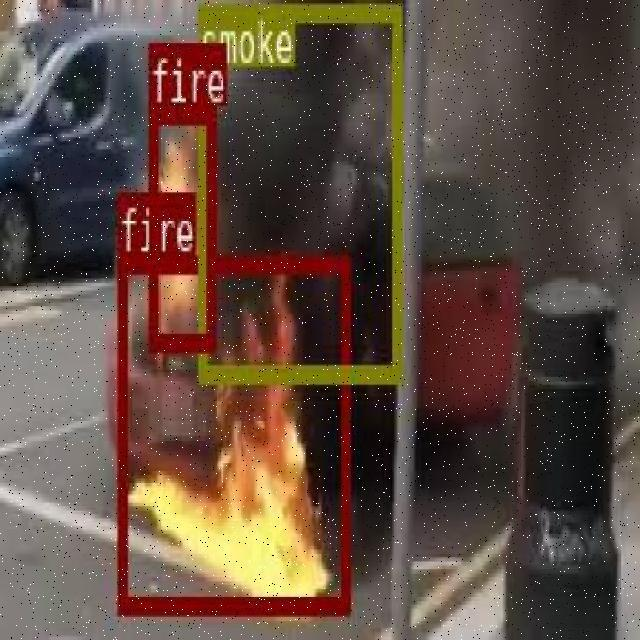Smoke: (196, 0, 399, 315)
